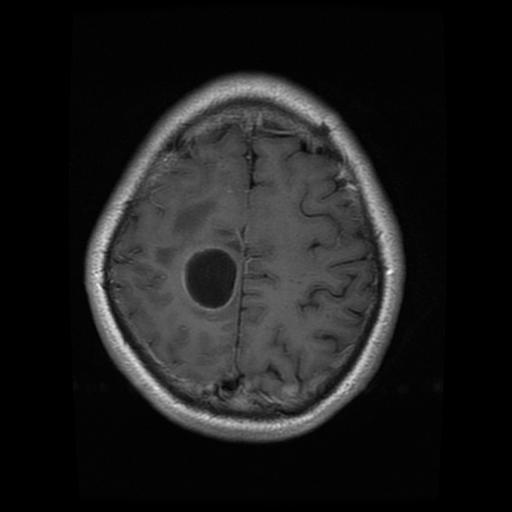Gliomia_tumour: (181, 242, 239, 310)
